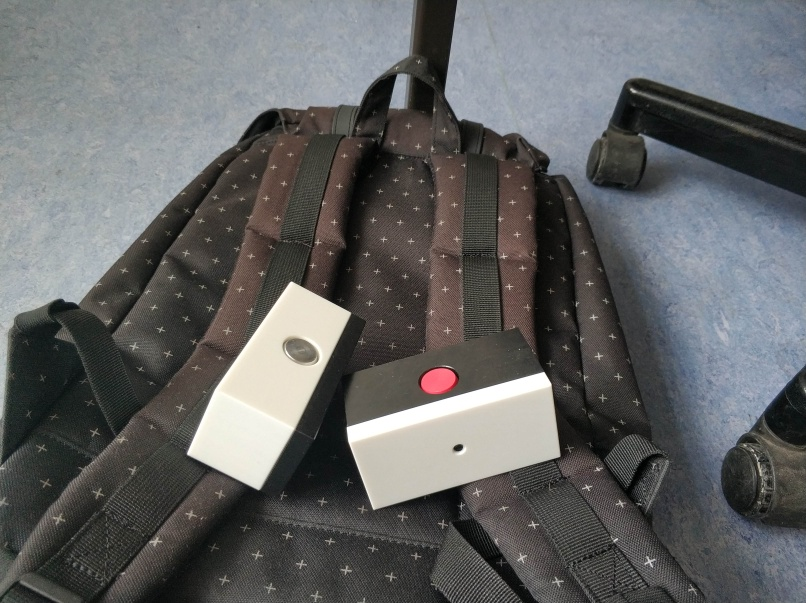black+white+silver: (183, 280, 366, 504)
white+black+red: (343, 327, 565, 511)
